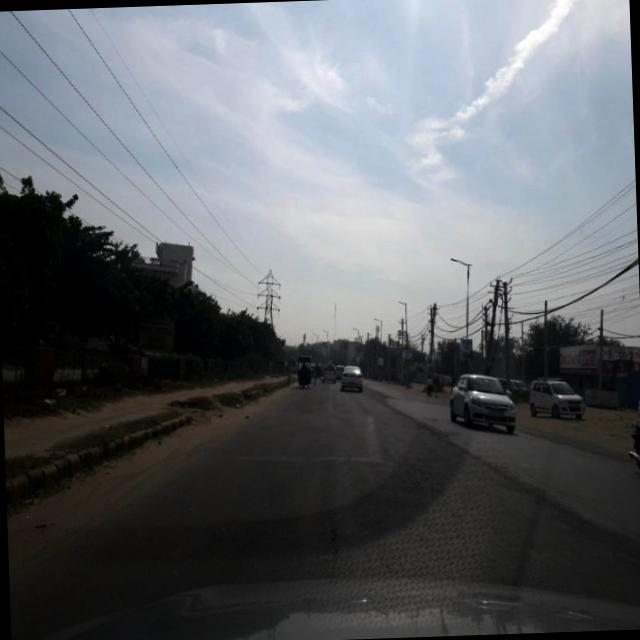pothole: (312, 472, 348, 578)
